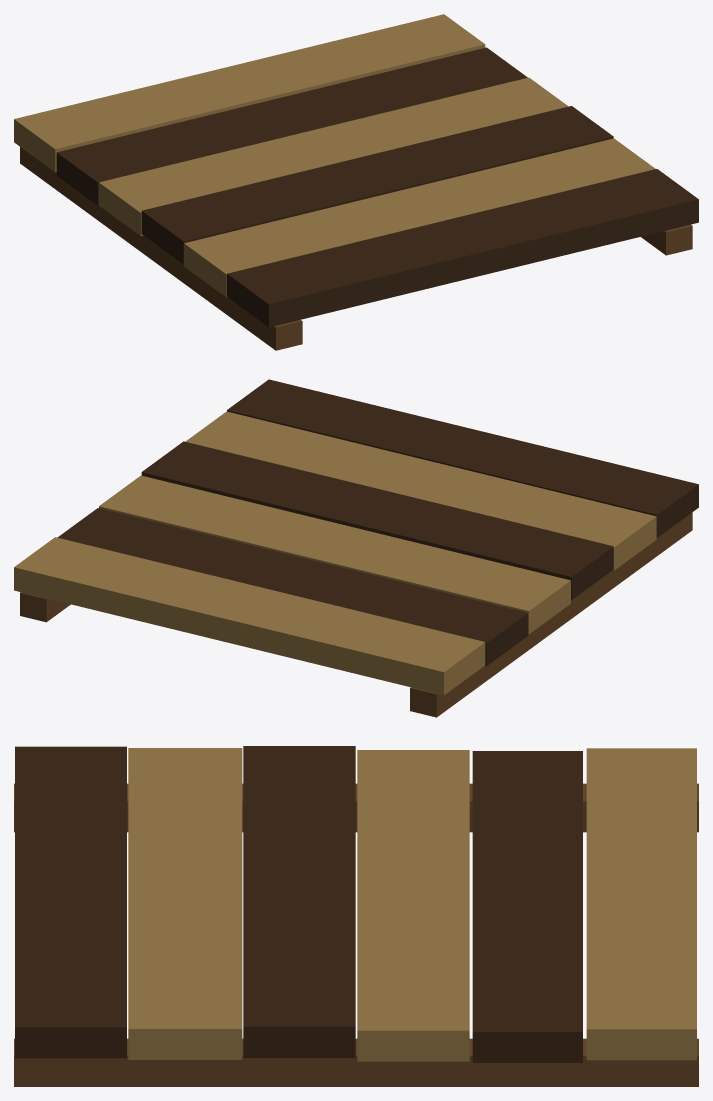
The model's file is bridge_fourway.obj.
The picture shows the model from 3 angles, top to bottom: view 1: azimuth 30°, elevation 25°; view 2: azimuth 150°, elevation 25°; view 3: azimuth 270°, elevation 25°; orthographic projection. The views are drawn at different scales.
Parts seen in each view (by area): view 1: geometry_5, geometry_0, geometry_3, geometry_4, geometry_1, geometry_2, geometry_6, geometry_7; view 2: geometry_0, geometry_3, geometry_2, geometry_5, geometry_4, geometry_1, geometry_6, geometry_7; view 3: geometry_4, geometry_2, geometry_3, geometry_5, geometry_0, geometry_1, geometry_7, geometry_6.
Boxes of the visible parts, x1,y1,x2,y2 form: geometry_5: (227,169,698,327); geometry_0: (14,14,485,172); geometry_3: (141,106,613,264); geometry_4: (184,138,655,297); geometry_1: (56,47,527,205); geometry_2: (99,77,568,236); geometry_6: (20,147,302,350); geometry_7: (641,224,692,255); geometry_0: (14,537,485,695); geometry_3: (141,441,613,600); geometry_2: (99,475,570,634); geometry_5: (227,379,698,537); geometry_4: (185,411,656,570); geometry_1: (57,508,527,666); geometry_6: (410,512,692,717); geometry_7: (20,592,70,622); geometry_4: (128,748,242,1059); geometry_2: (357,750,469,1061); geometry_3: (243,746,355,1057); geometry_5: (15,746,126,1058); geometry_0: (586,748,696,1060); geometry_1: (472,751,582,1062); geometry_7: (14,1038,698,1086); geometry_6: (14,783,698,832).
Size of the model in its own units: 0.97 by 0.1039 by 1.
